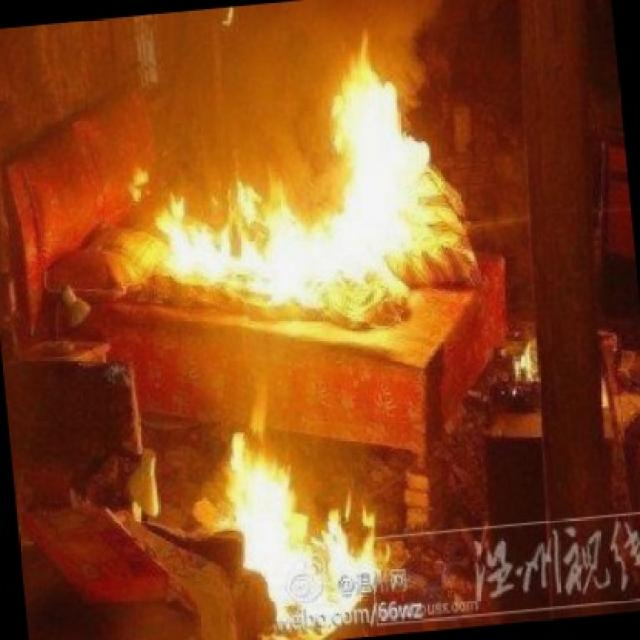fire: (96, 20, 498, 369), (161, 369, 387, 640)
